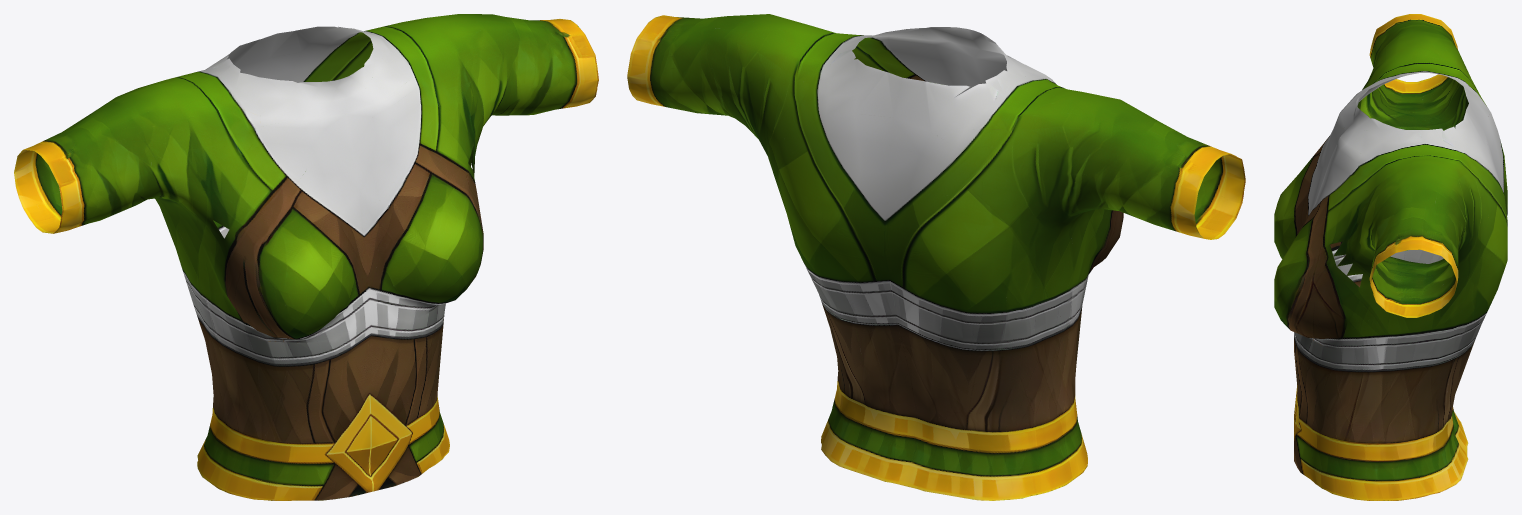
The model's file is upperbodyTest3.glb.
3 renders of one model, left to right at view 1: azimuth 30°, elevation 25°; view 2: azimuth 150°, elevation 25°; view 3: azimuth 270°, elevation 25°, orthographic. The views are drawn at different scales.
Bounding box in the file's own units: 2 × 1.38 × 0.837.
1 material, 1 textured.
